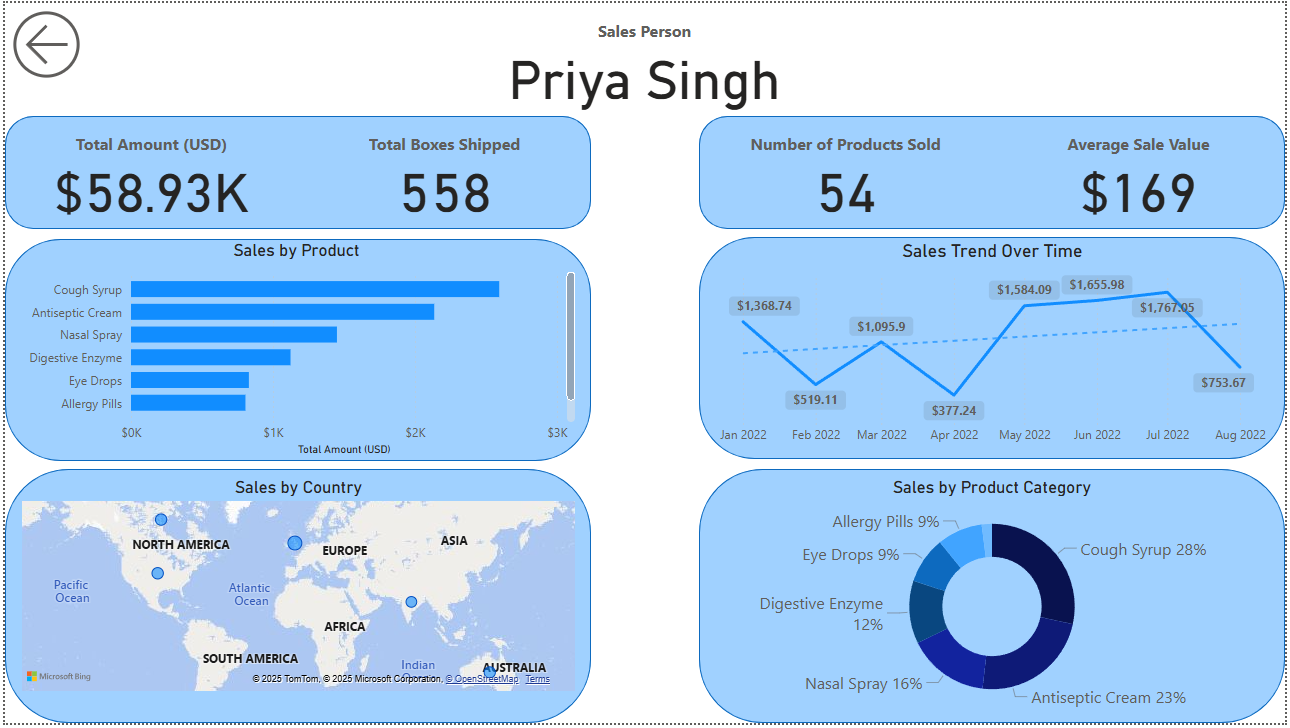

Layout of this report page (visuals, bound fields, positions):
{"tool":"powerbi","page":{"name":"Drill Through","canvas":[1280,720],"ordinal":1},"visuals":[{"type":"group","id":"g1","title":"BackGround","box":[0,113.1,1280.2,606.9],"z":0},{"type":"shape","box":[0,113.1,586.2,113.1],"z":0,"group":"g1"},{"type":"cardVisual","fields":{"Data":["Min(sales_export_20251021_234047.sales_person)"]},"box":[376.2,0,527,113.1],"z":1000},{"type":"shape","box":[694,113.1,586.2,113.1],"z":1000,"group":"g1"},{"type":"actionButton","box":[0,0,99.7,82.6],"z":2000},{"type":"shape","box":[0,236.1,586.2,221.7],"z":2000,"group":"g1"},{"type":"cardVisual","fields":{"Data":["Sum(kpi_summary_20251021_234047.total_revenue)"]},"box":[0,112.9,293.1,112.9],"z":3000},{"type":"shape","box":[0,465.9,586.2,254.1],"z":3000,"group":"g1"},{"type":"cardVisual","fields":{"Data":["Sum(sales_export_20251021_234047.boxes_shipped)"]},"box":[292.7,113.1,293.6,113.1],"z":4000},{"type":"shape","box":[694,234.3,586.2,221.7],"z":4000,"group":"g1"},{"type":"cardVisual","fields":{"Data":["Avg(sales_export_20251021_234047.amount_usd)"]},"box":[986.9,112.9,293.1,112.9],"z":5000},{"type":"shape","box":[694,465.9,586.2,254.1],"z":5000,"group":"g1"},{"type":"cardVisual","fields":{"Data":["deal_size_20251021_234047.Total Transactions"]},"box":[693.8,112.9,293.1,112.9],"z":6000},{"type":"barChart","title":"Sales by Product","fields":{"Category":["sales_export_20251021_234047.product"],"Y":["Sum(sales_export_20251021_234047.amount_usd)"]},"box":[8.1,237,586.2,220],"z":7000},{"type":"map","title":"Sales by Country","fields":{"Category":["sales_export_20251021_234047.country"],"Size":["Sum(sales_export_20251021_234047.amount_usd)"]},"box":[11.7,449.8,562.9,243.3],"z":8000},{"type":"lineChart","title":"Sales Trend Over Time","fields":{"Y":["Sum(sales_export_20251021_234047.amount_usd)"],"Category":["sales_export_20251021_234047.sale_date.Variation.Date Hierarchy.Year","sales_export_20251021_234047.sale_date.Variation.Date Hierarchy.Quarter","sales_export_20251021_234047.sale_date.Variation.Date Hierarchy.Month"]},"box":[709.2,237,556.6,212.8],"z":9000},{"type":"donutChart","title":"Sales by Product Category","fields":{"Y":["Sum(sales_export_20251021_234047.amount_usd)"],"Category":["sales_export_20251021_234047.product"]},"box":[694,474,586.2,239.7],"z":10000}]}

Visuals, with their boxes in screenshot pixels (x1, y1, x2, y2), scaled from the page's 1280x720 canvas onto the 1290x728 screenshot:
"BackGround" group: locate(0, 114, 1289, 727)
shape: locate(0, 114, 591, 229)
cardVisual - Min(sales_export_20251021_234047.sales_person): locate(379, 0, 910, 114)
shape: locate(699, 114, 1289, 229)
actionButton: locate(0, 0, 100, 84)
shape: locate(0, 239, 591, 463)
cardVisual - Sum(kpi_summary_20251021_234047.total_revenue): locate(0, 114, 295, 228)
shape: locate(0, 471, 591, 727)
cardVisual - Sum(sales_export_20251021_234047.boxes_shipped): locate(295, 114, 591, 229)
shape: locate(699, 237, 1289, 461)
cardVisual - Avg(sales_export_20251021_234047.amount_usd): locate(995, 114, 1289, 228)
shape: locate(699, 471, 1289, 727)
cardVisual - deal_size_20251021_234047.Total Transactions: locate(699, 114, 995, 228)
"Sales by Product" barChart: locate(8, 240, 599, 462)
"Sales by Country" map: locate(12, 455, 579, 701)
"Sales Trend Over Time" lineChart: locate(715, 240, 1276, 455)
"Sales by Product Category" donutChart: locate(699, 479, 1289, 722)
